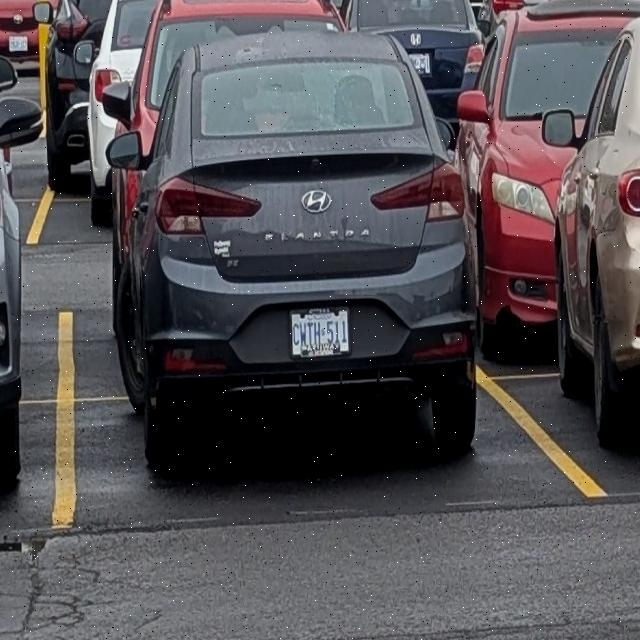plaque: (290, 308, 350, 358), (410, 55, 431, 75), (9, 37, 27, 52)
